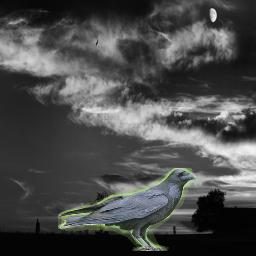Crow: (58, 168, 197, 251)
